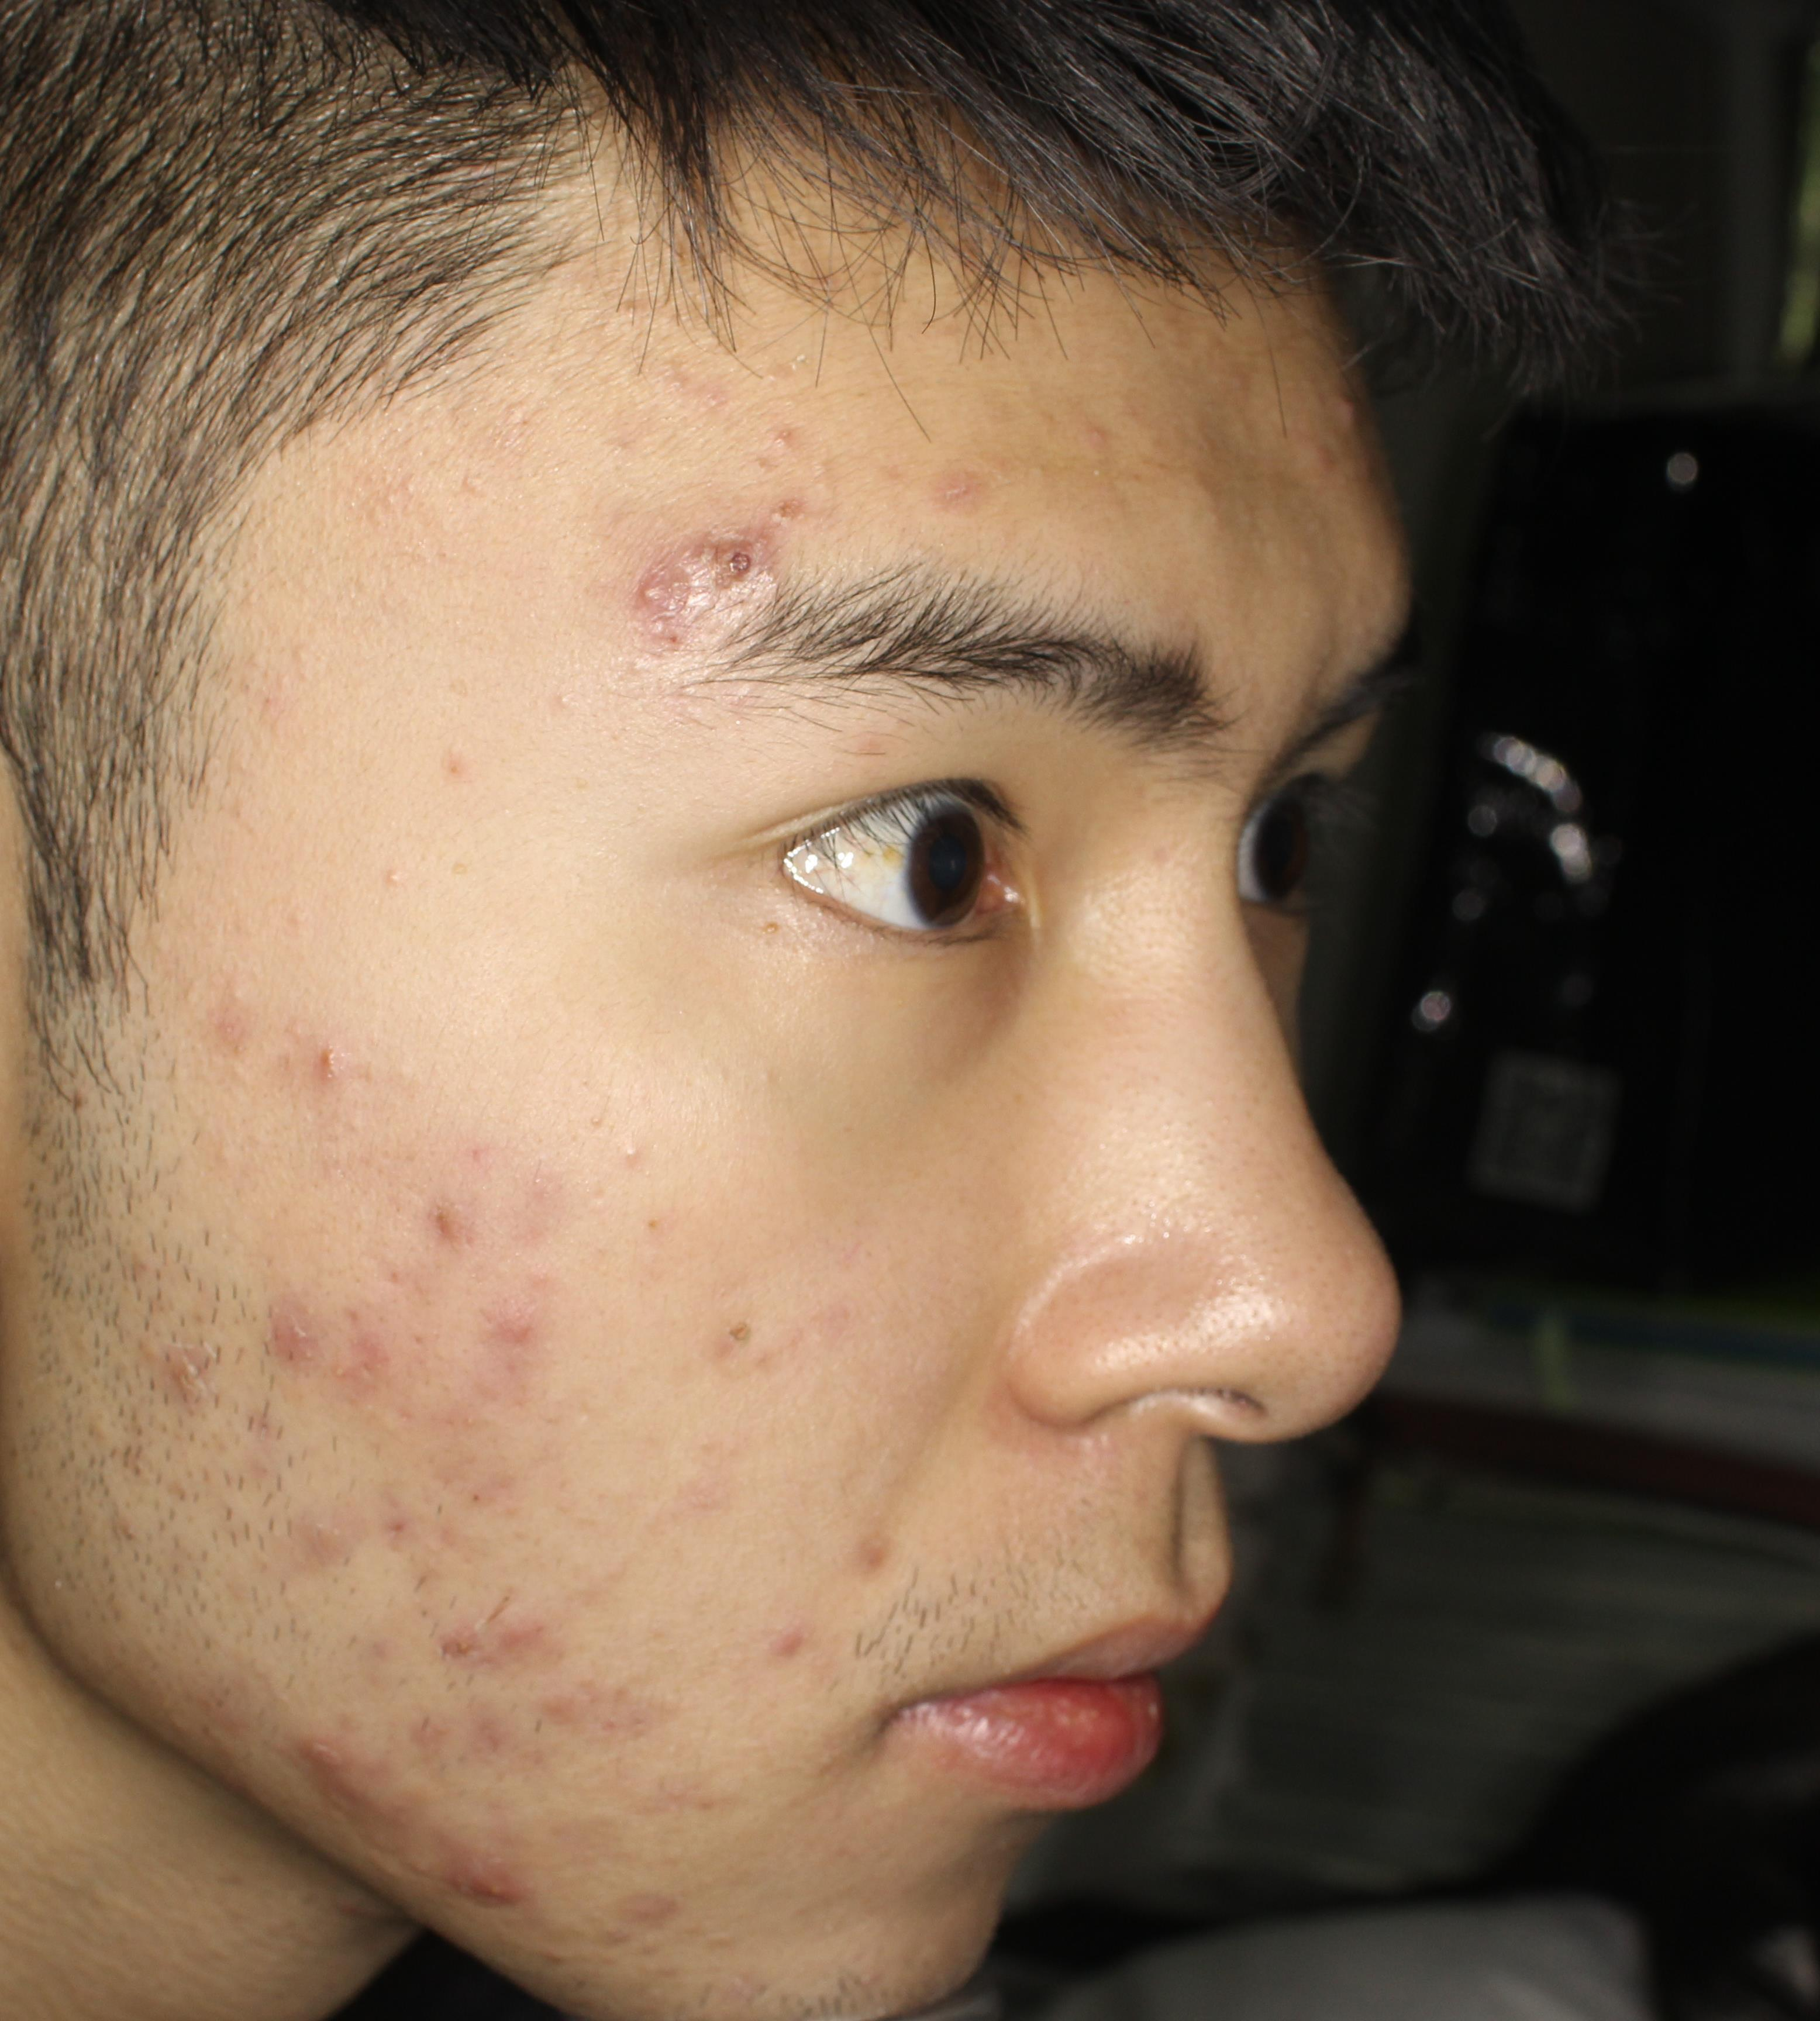fore: (256, 1715, 404, 1845), (404, 1823, 548, 1953), (669, 500, 794, 630), (404, 1190, 511, 1285), (624, 532, 682, 671), (239, 1303, 329, 1387), (490, 1608, 580, 1693), (158, 994, 248, 1069), (1288, 397, 1360, 483), (126, 1343, 216, 1406), (386, 1687, 462, 1759), (364, 1487, 441, 1554), (297, 1020, 364, 1096), (471, 1687, 534, 1765), (332, 1329, 401, 1396), (817, 1528, 906, 1577), (485, 1285, 548, 1352), (740, 486, 840, 523), (750, 1603, 829, 1638), (311, 1517, 355, 1571), (436, 1638, 494, 1679)
